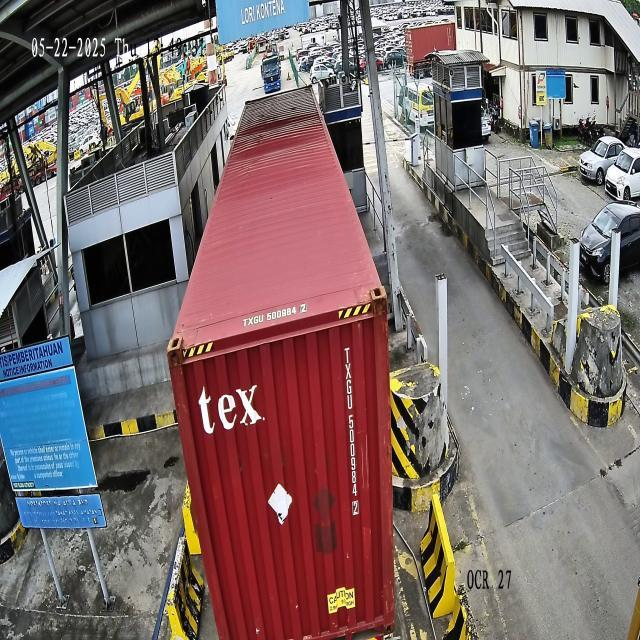container_number: (340, 343, 360, 514)
